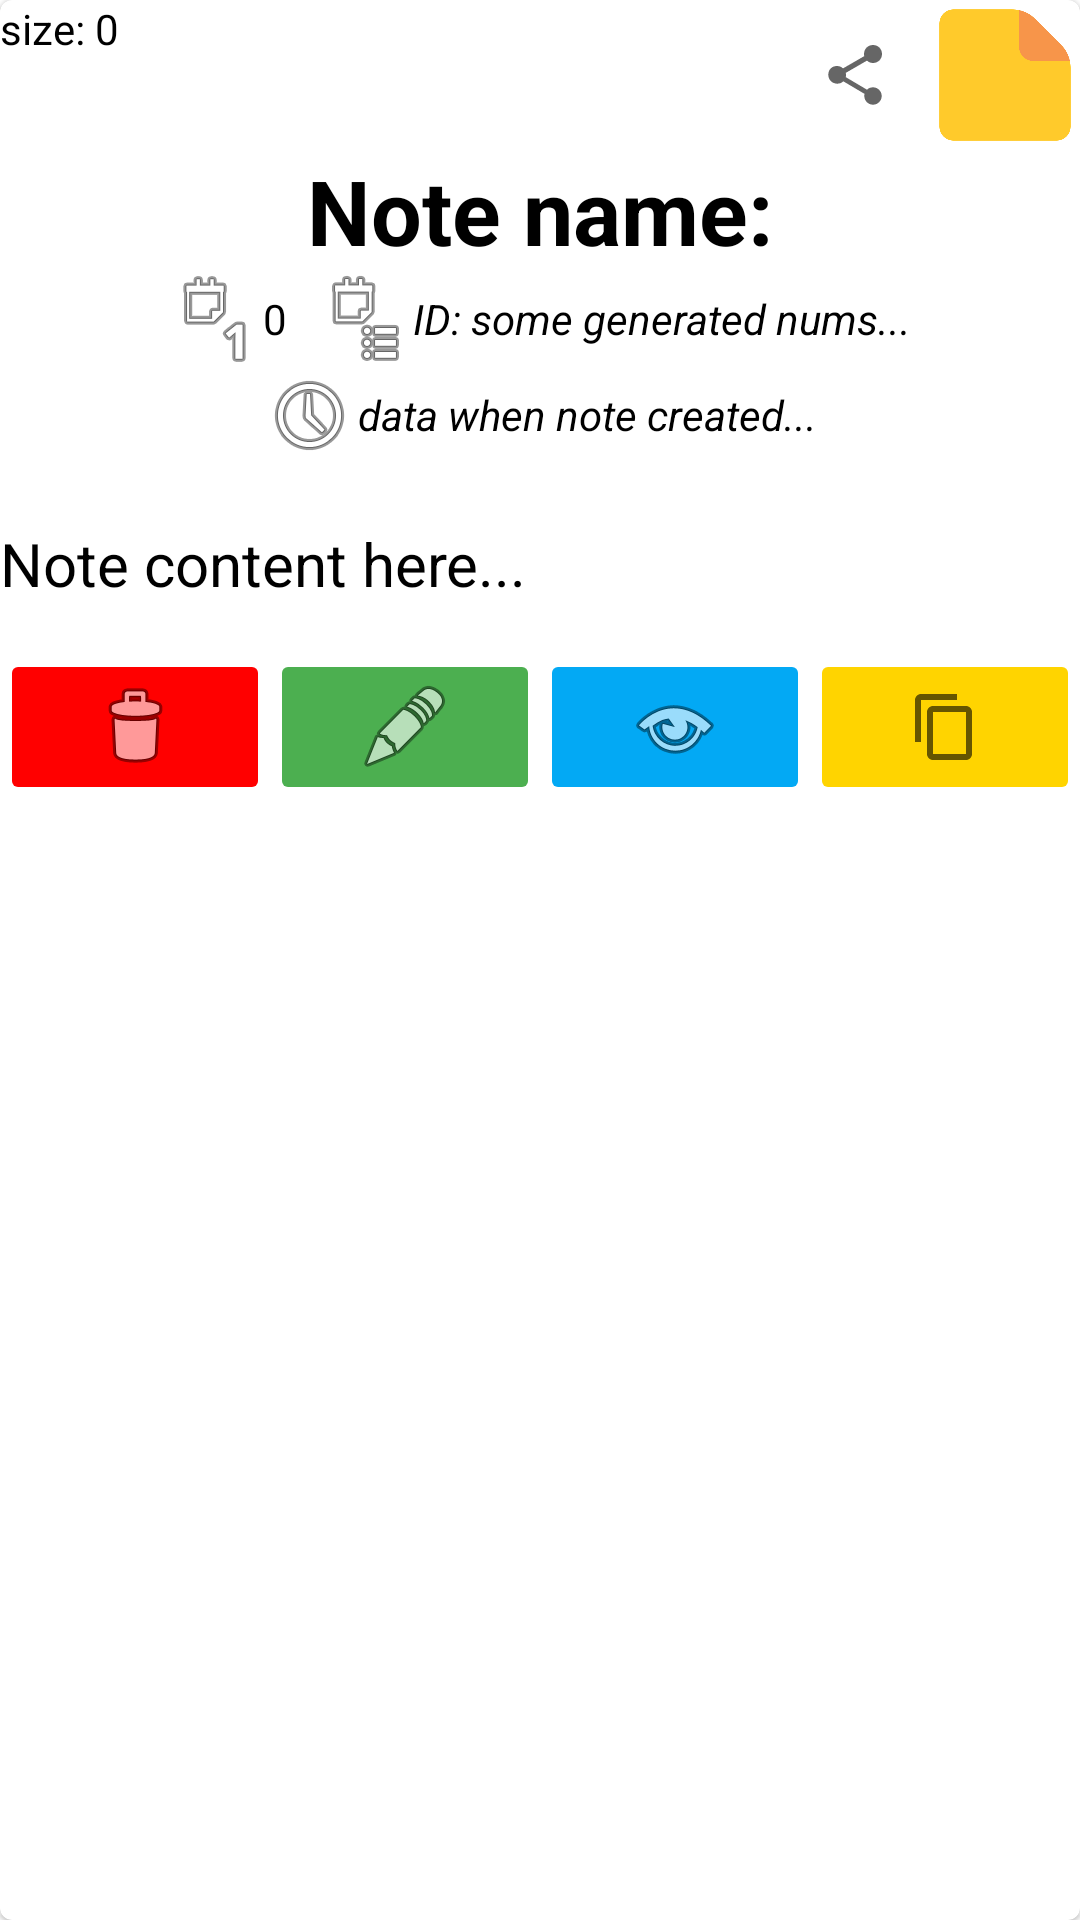

Icons on this 1080 × 1920 Android screen, each with the point to tap as (x=x, y=y):
agenda: (x=365, y=318)
day: (x=214, y=319)
delete: (x=135, y=727)
edit: (x=405, y=727)
recent history: (x=309, y=415)
view: (x=675, y=727)
